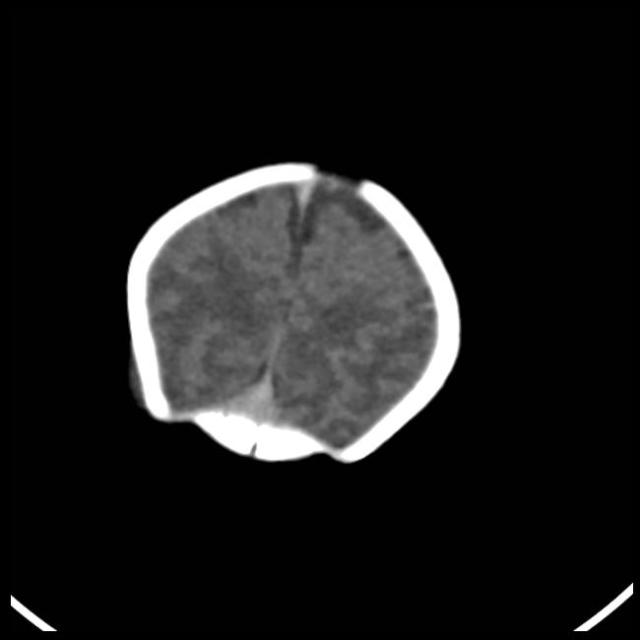lesion: (119, 154, 468, 470)
